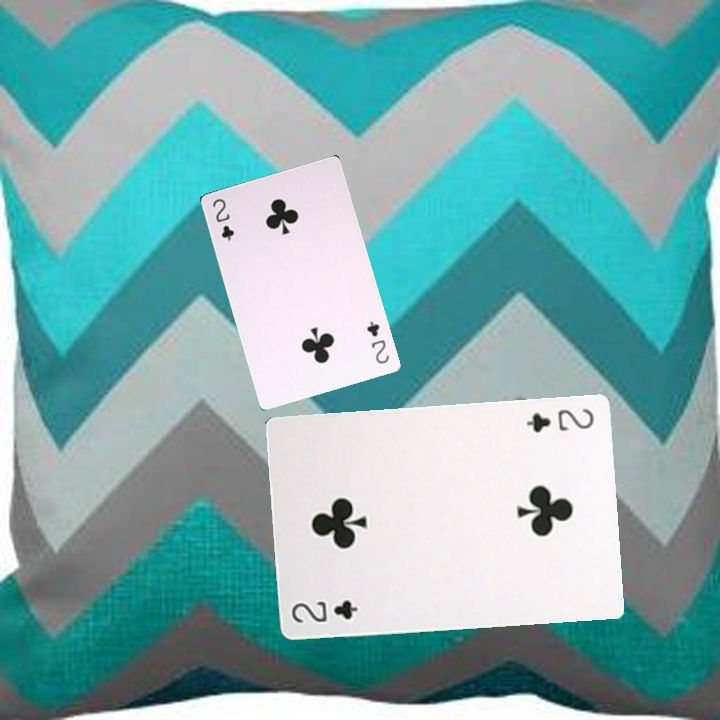2c: (522, 404, 596, 435), (287, 595, 361, 626), (208, 194, 237, 244), (363, 317, 392, 366)
